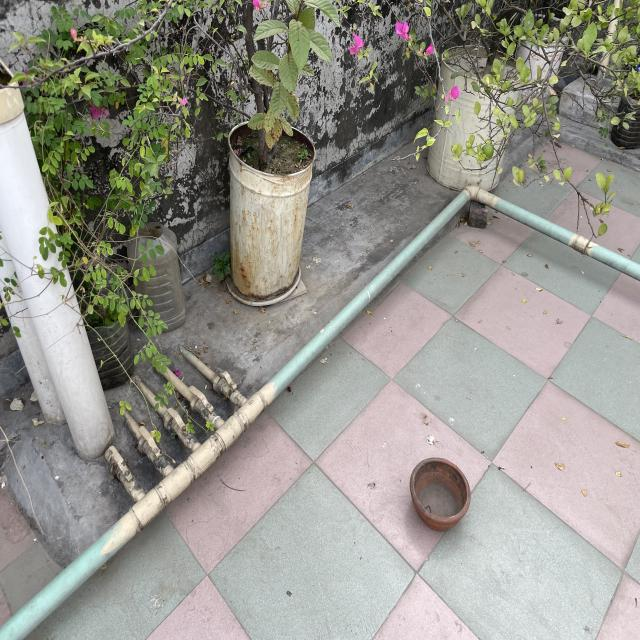Breeding Place: (229, 118, 299, 306), (427, 42, 513, 190), (123, 215, 188, 332), (408, 458, 475, 530), (89, 289, 130, 379)
